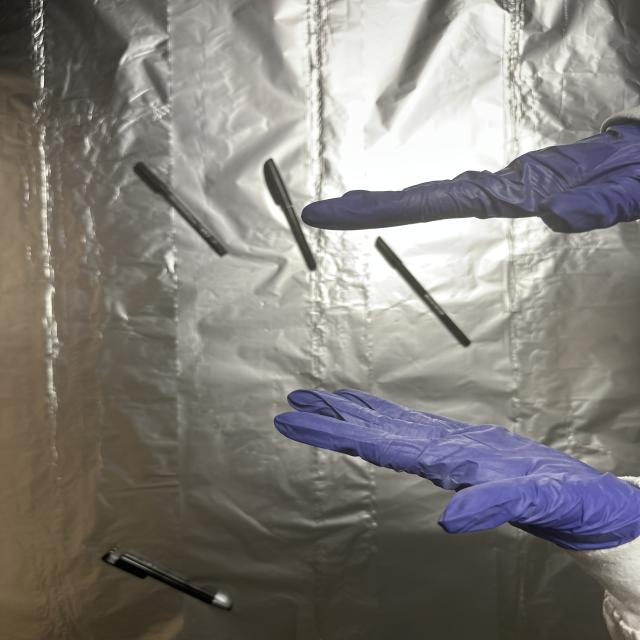gloves_contaminated: (274, 390, 640, 550), (302, 124, 640, 233)
